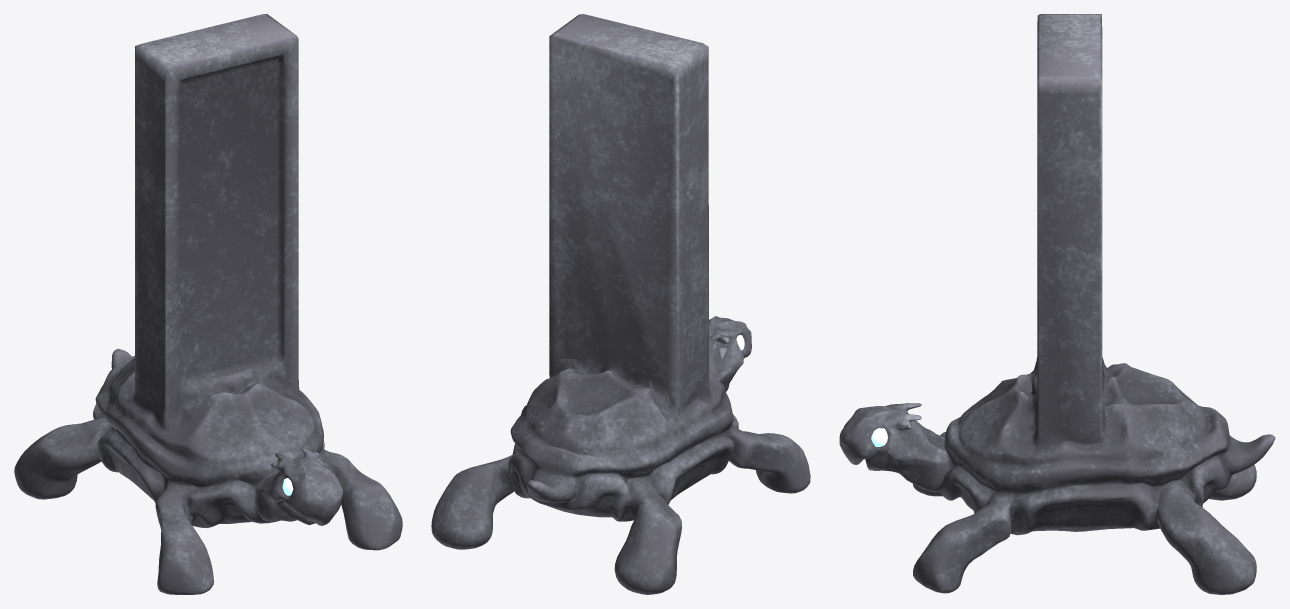
File: bixi_a_mythological_tortoise.glb
3 views of the same model, side by side, from view 1: azimuth 30°, elevation 25°; view 2: azimuth 150°, elevation 25°; view 3: azimuth 270°, elevation 25° (orthographic). The views are drawn at different scales.
Visible parts, largest first — view 1: BiXi.003; view 2: BiXi.003; view 3: BiXi.003.
Part boxes in pixels (<box>): BiXi.003: <box>14,14,402,594</box>; BiXi.003: <box>431,14,810,594</box>; BiXi.003: <box>839,14,1275,594</box>.
Bounding box in the file's own units: 2.97 × 5.67 × 4.51.
Materials: 2 (1 with a texture image).
